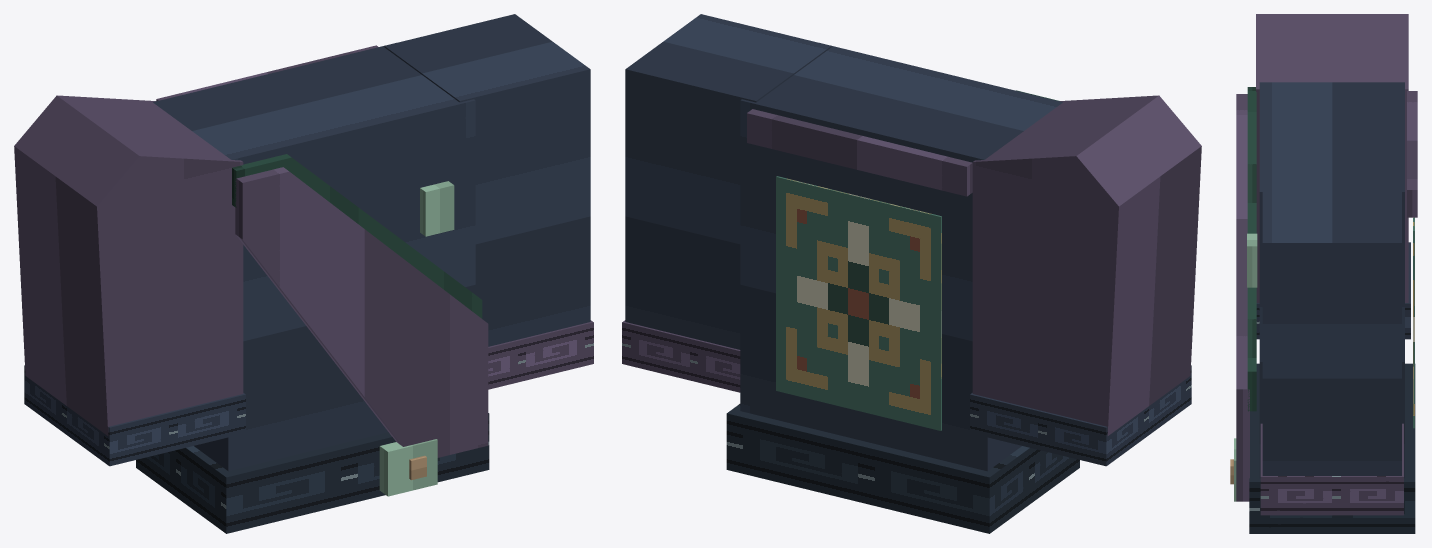
Rendered from zhuji_wuyao_yeque_chestplate.obj.
The picture shows the model from 3 angles, left to right: view 1: azimuth 30°, elevation 25°; view 2: azimuth 150°, elevation 25°; view 3: azimuth 270°, elevation 25°; orthographic projection. The views are drawn at different scales.
Visible parts, largest first — view 1: night_left_sleeve, night_body, night_right_sleeve, night_outer_lapel, night_belt, night_left_cuff, night_right_cuff, night_inner_lapel, night_buckle, night_chest_seal, night_back_collar; view 2: night_left_sleeve, night_body, night_right_sleeve, orn_back, night_belt, night_left_cuff, night_back_collar, night_right_cuff; view 3: night_right_sleeve, night_body, night_left_sleeve, night_belt, night_right_cuff, night_outer_lapel, night_inner_lapel, night_back_collar, night_chest_seal, night_left_cuff, orn_back.
Boxes of the visible parts, x1,y1,x2,y2 form: night_left_sleeve: (14,95,243,435); night_body: (153,42,475,471); night_right_sleeve: (384,14,590,346); night_outer_lapel: (235,167,488,457); night_belt: (136,413,489,533); night_left_cuff: (24,365,245,466); night_right_cuff: (488,320,593,389); night_inner_lapel: (232,154,482,318); night_buckle: (379,439,437,496); night_chest_seal: (420,181,454,236); night_back_collar: (156,45,378,100); night_left_sleeve: (972,95,1201,435); night_body: (740,42,1062,471); night_right_sleeve: (625,14,831,349); orn_back: (776,176,941,430); night_belt: (726,404,1079,533); night_left_cuff: (970,365,1191,466); night_back_collar: (747,109,972,196); night_right_cuff: (622,320,740,392); night_right_sleeve: (1262,184,1401,475); night_body: (1259,82,1404,478); night_left_sleeve: (1256,14,1408,302); night_belt: (1249,363,1415,533); night_right_cuff: (1260,423,1403,515); night_outer_lapel: (1236,94,1249,501); night_inner_lapel: (1247,87,1256,411); night_back_collar: (1407,91,1417,217); night_chest_seal: (1247,233,1257,287); night_left_cuff: (1256,242,1410,339); orn_back: (1413,217,1414,428).
Bounding box in the file's own units: 1.1 × 0.8344 × 0.3875.
